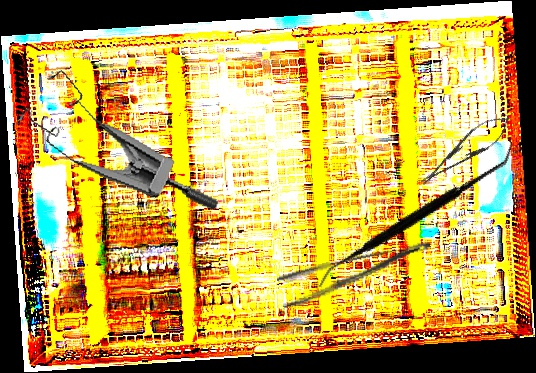Dressing Forceps: (275, 238, 438, 310)
Needle Holder: (414, 106, 517, 194)
Spatula Surgical: (316, 93, 516, 337)
Speculum: (7, 63, 240, 213)
